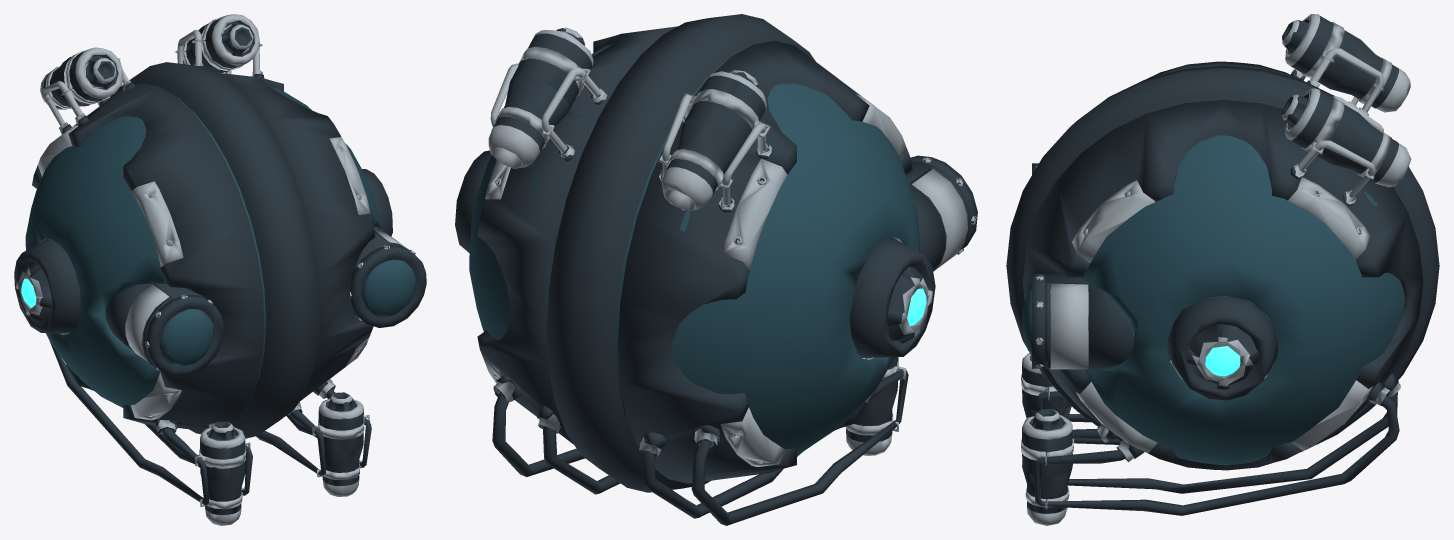
File: bs-sentry.glb
The picture shows the model from 3 angles, left to right: view 1: azimuth 30°, elevation 25°; view 2: azimuth 150°, elevation 25°; view 3: azimuth 270°, elevation 25°; orthographic projection. The views are drawn at different scales.
Parts seen in each view (by area): view 1: bs_drone_ball; view 2: bs_drone_ball; view 3: bs_drone_ball.
Boxes of the visible parts, box(x1,y1,x2,y2) form: bs_drone_ball: box(14, 14, 426, 525); bs_drone_ball: box(455, 14, 977, 525); bs_drone_ball: box(1006, 14, 1439, 525).
Size of the model in its own units: 1.14 by 1.17 by 1.06.
